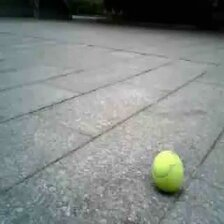tennis: (151, 152, 184, 187)
